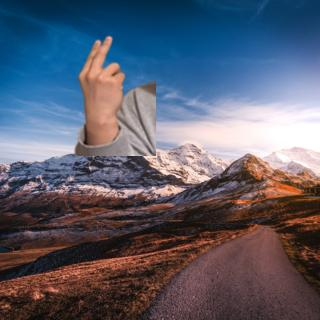DHAVE: (72, 33, 128, 124)
